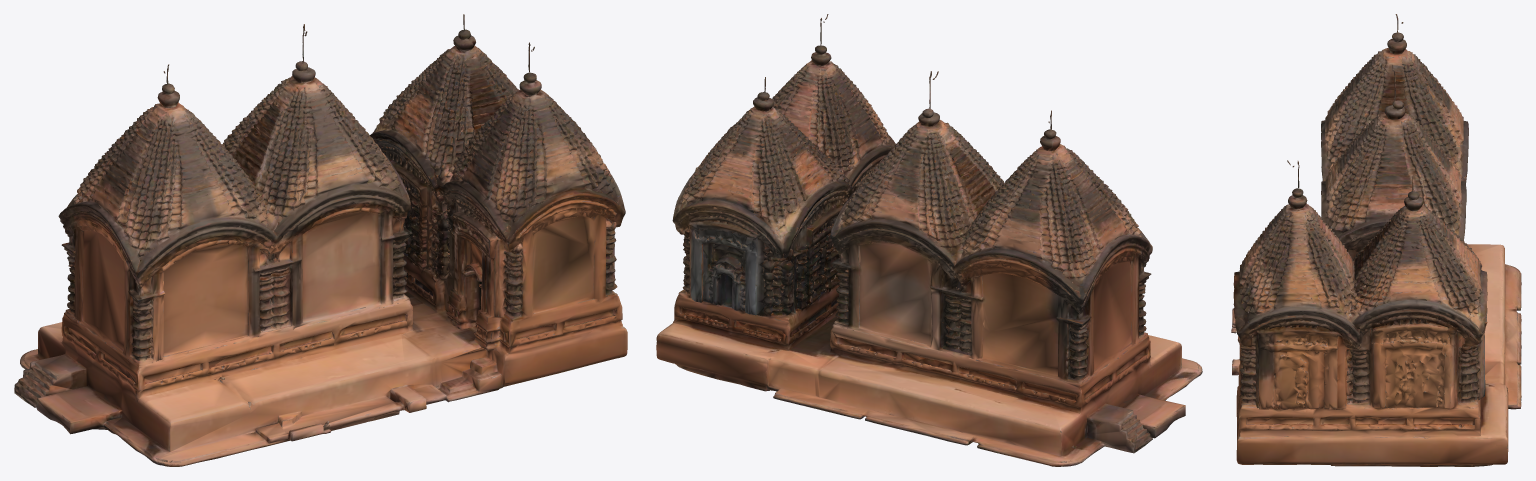
The model's file is Terracotta Temples of Maluti.glb.
The picture shows the model from 3 angles, left to right: view 1: azimuth 30°, elevation 25°; view 2: azimuth 150°, elevation 25°; view 3: azimuth 270°, elevation 25°; orthographic projection. The views are drawn at different scales.
Bounding box in the file's own units: 1.87 × 1.2 × 1.05.
Materials: 1 (1 with a texture image).
